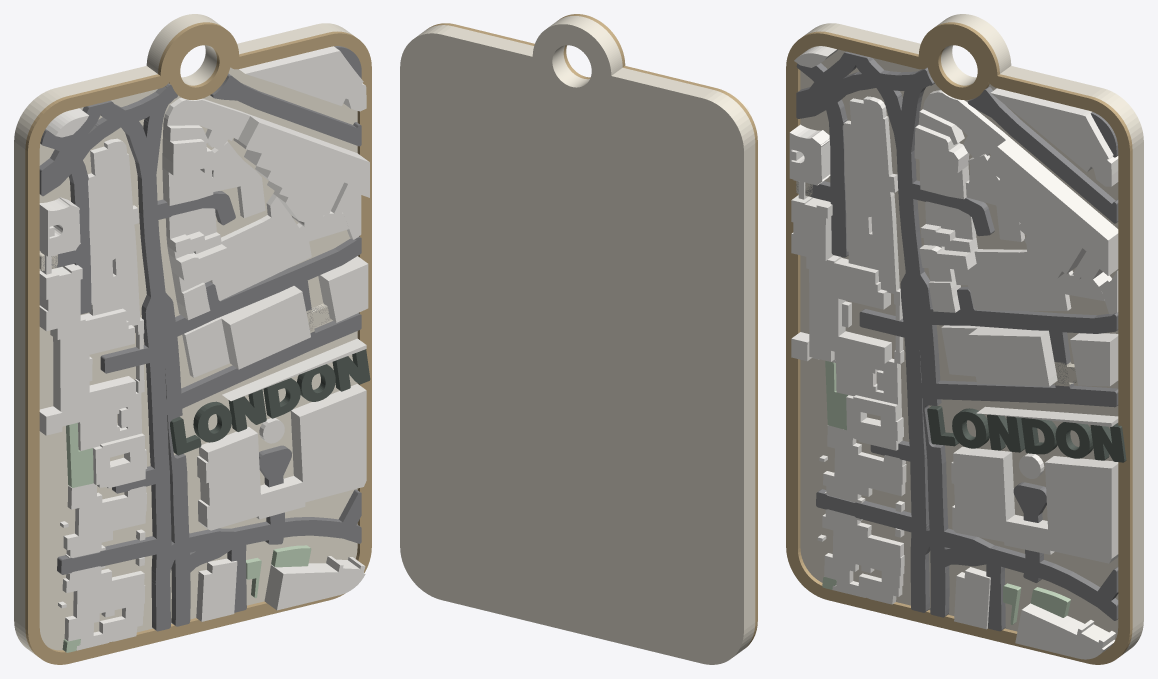
The model's file is keychain-bridge.glb.
The picture shows the model from 3 angles, left to right: view 1: azimuth 30°, elevation 25°; view 2: azimuth 150°, elevation 25°; view 3: azimuth 330°, elevation 25°; orthographic projection.
Parts seen in each view (by area): view 1: Buildings, Roads, Base, Rim, Text, Parks, Bridges; view 2: Base, Rim; view 3: Buildings, Roads, Base, Rim, Text, Parks, Bridges.
Part boxes in pixels (x1=…): Buildings: x1=39, y1=46, x2=369, y2=650; Roads: x1=39, y1=46, x2=361, y2=631; Base: x1=14, y1=14, x2=357, y2=655; Rim: x1=25, y1=22, x2=371, y2=664; Text: x1=170, y1=349, x2=370, y2=455; Parks: x1=62, y1=423, x2=311, y2=652; Bridges: x1=39, y1=252, x2=331, y2=332; Base: x1=400, y1=16, x2=755, y2=664; Rim: x1=428, y1=14, x2=757, y2=648; Buildings: x1=789, y1=46, x2=1118, y2=659; Roads: x1=796, y1=51, x2=1118, y2=631; Base: x1=800, y1=14, x2=1143, y2=655; Rim: x1=786, y1=22, x2=1132, y2=664; Text: x1=927, y1=405, x2=1126, y2=462; Parks: x1=822, y1=361, x2=1070, y2=624; Bridges: x1=796, y1=181, x2=1077, y2=386.
Size of the model in its own units: 35 by 59 by 4.2.
